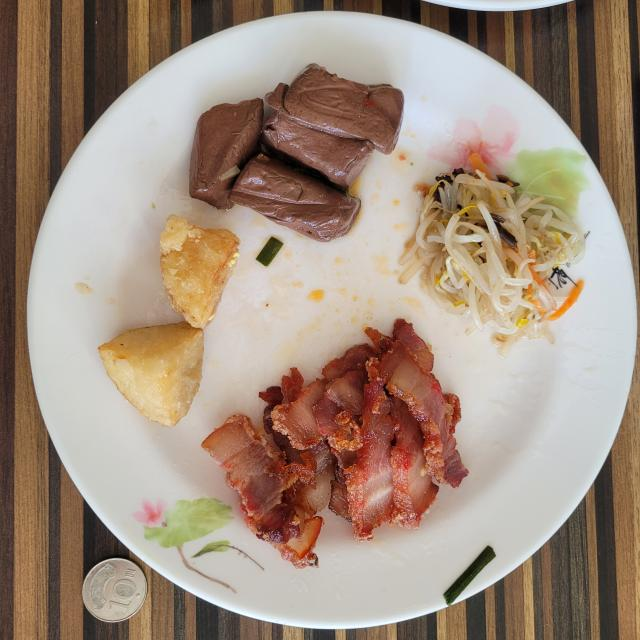coin: (82, 558, 148, 622)
fried potato: (99, 215, 240, 426)
pig blood curd: (189, 64, 404, 241)
red grilled pork: (202, 320, 468, 568)
